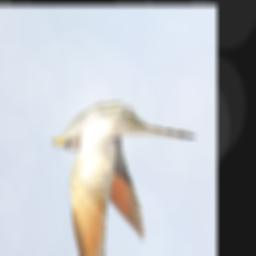Cuckoo: (52, 104, 196, 256)
